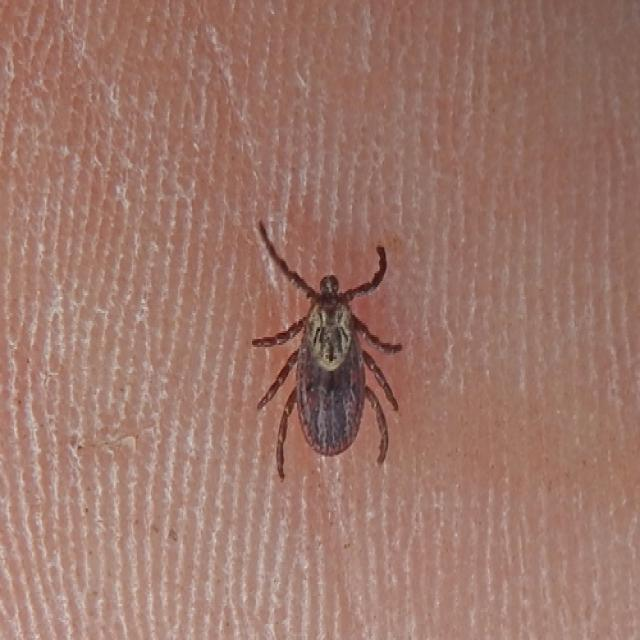Dermacentor Reticulatus-F: (252, 219, 403, 480)
